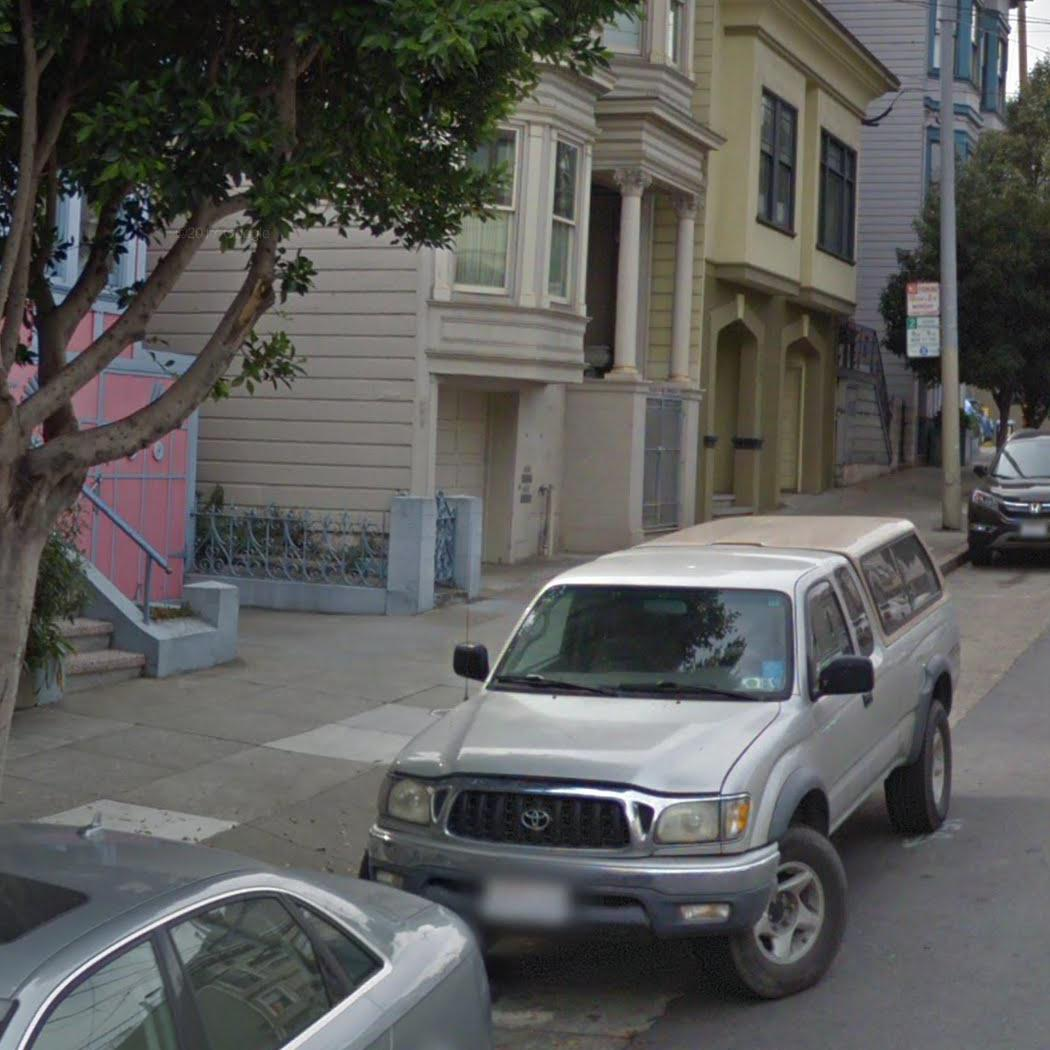2 Hour Parking: (904, 315, 941, 358)
No Parking: (905, 281, 941, 315)
